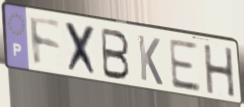B: (100, 26, 132, 82)
E: (167, 36, 203, 94)
F: (27, 14, 63, 70)
H: (202, 44, 238, 100)
K: (136, 33, 164, 88)
X: (63, 19, 100, 80)
